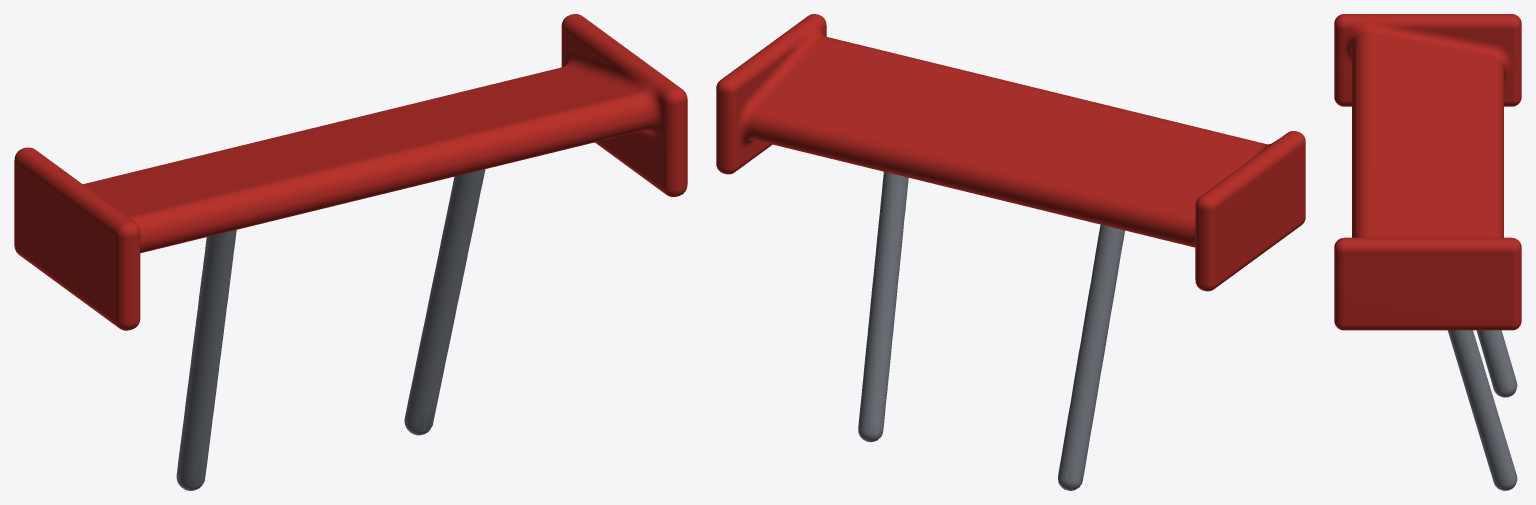
Rendered from classic.glb.
The picture shows the model from 3 angles, left to right: view 1: azimuth 30°, elevation 25°; view 2: azimuth 150°, elevation 25°; view 3: azimuth 270°, elevation 25°; orthographic projection. The views are drawn at different scales.
Visible parts, largest first — view 1: Wing, WingStruts; view 2: Wing, WingStruts; view 3: Wing, WingStruts.
Boxes of the visible parts, <box> form: Wing: <box>14,14,687,330</box>; WingStruts: <box>176,169,485,490</box>; Wing: <box>716,14,1305,291</box>; WingStruts: <box>858,172,1124,490</box>; Wing: <box>1334,14,1521,330</box>; WingStruts: <box>1447,330,1517,490</box>.
Size of the model in its own units: 1 by 0.6322 by 0.34.
